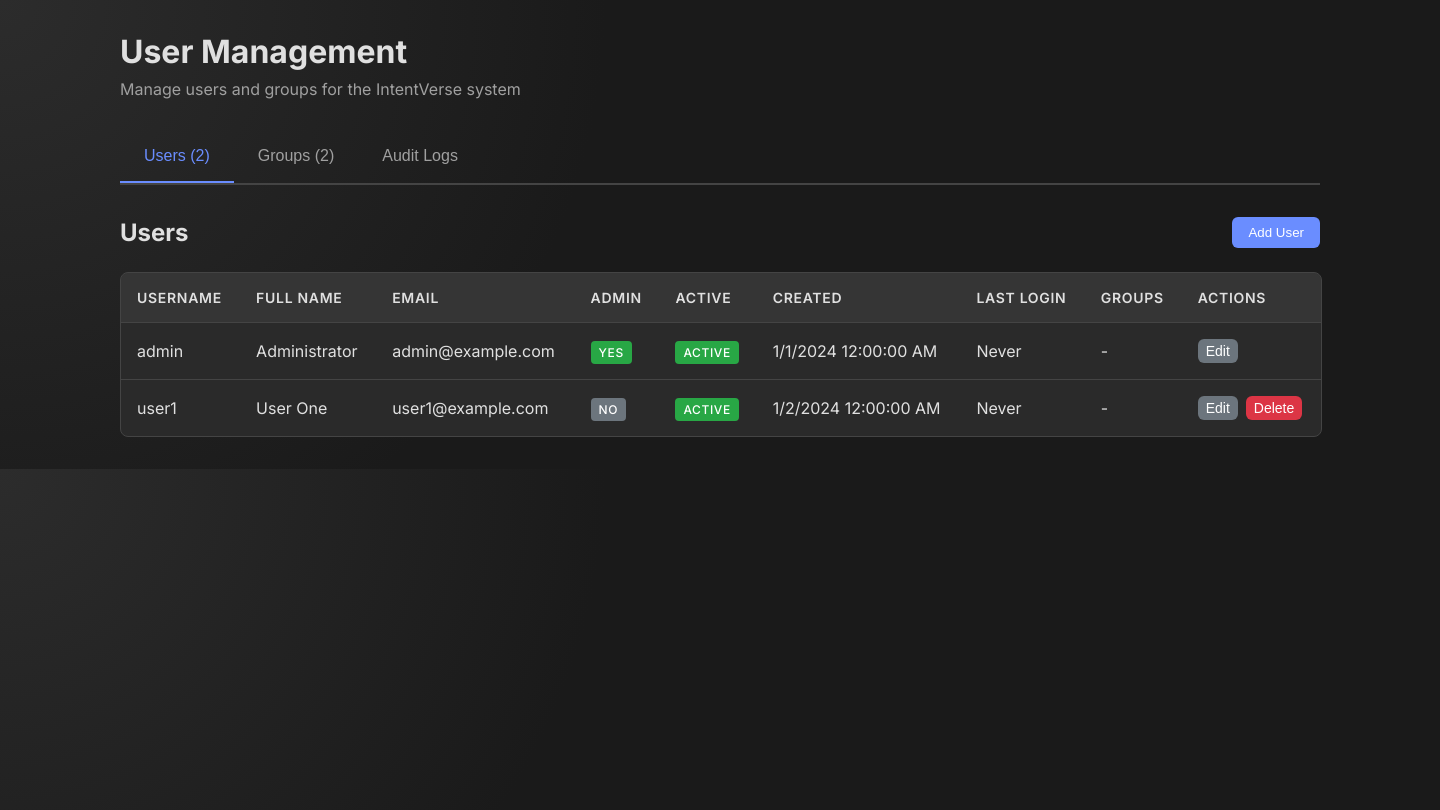
Scenario: UsersPage › Users Management › opens edit user modal when edit button is clicked
This screenshot has width=1440, height=810.
Check: the text "user1" is shown, box [121, 380, 240, 436]
# Find and click edit button for user1
Click the button "Edit" in the row of "User One" at (1218, 408), box [1198, 396, 1238, 420]
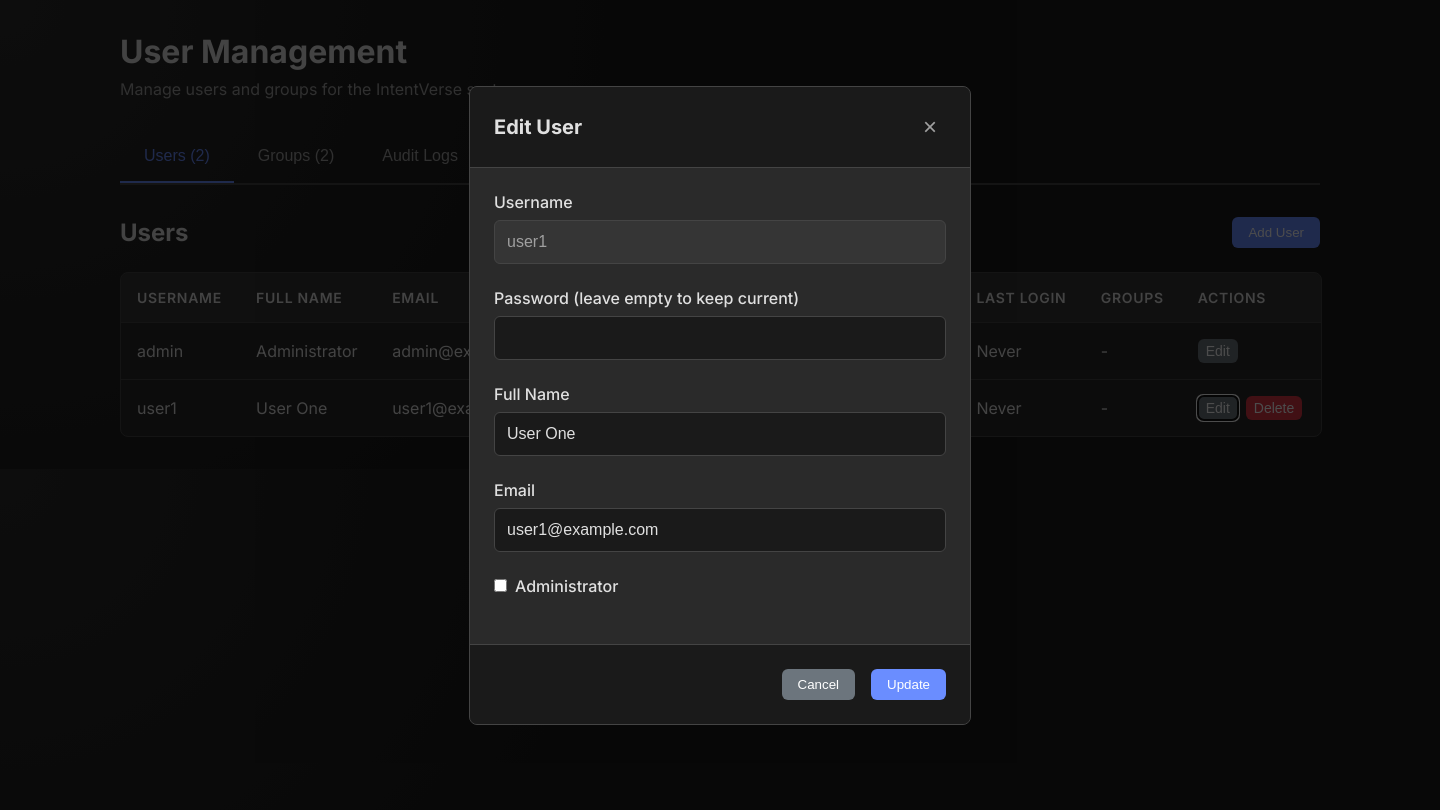
Check: the heading "Edit User" is shown, box [494, 114, 582, 138]
Check: the field showing "user1" is shown, box [494, 220, 946, 264]
